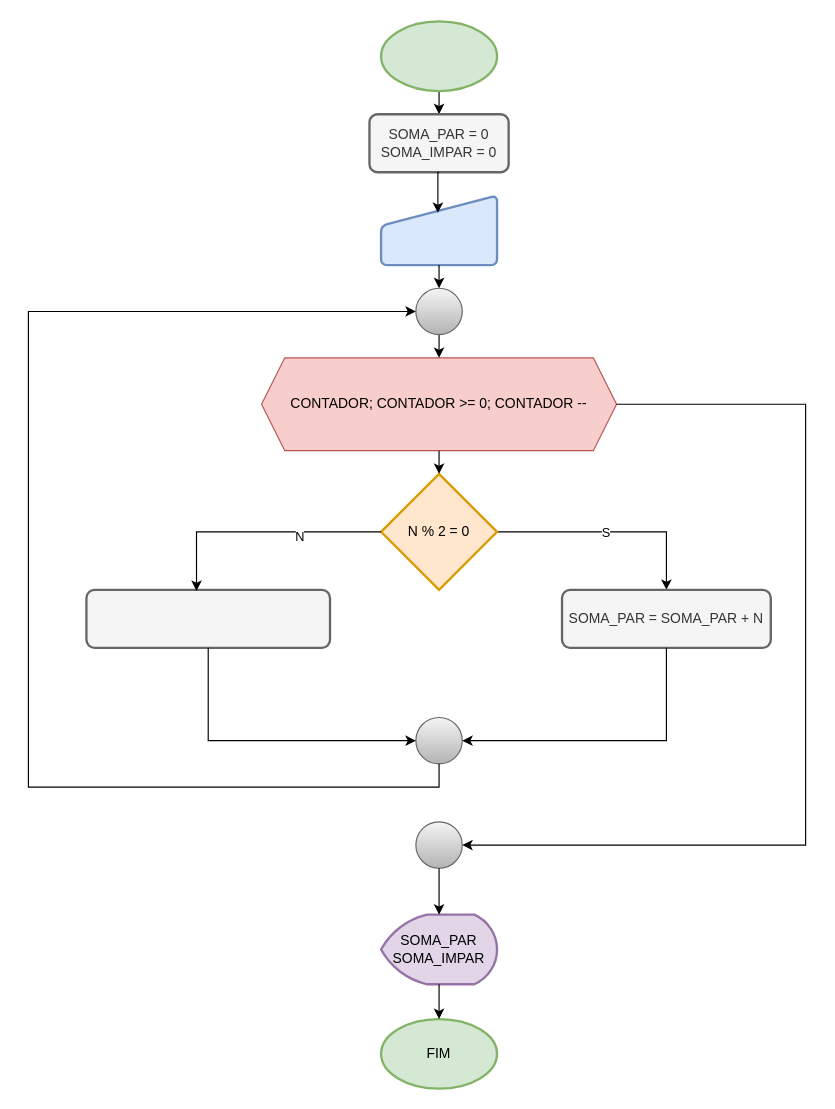
This 835x1109 diagram has some shape labels left out. Each missing label, with the centre of its shape:
CONTADOR: (438,230)
INICIO: (438,56)
SOMA_IMPAR = SOMA_IMPAR + N: (208,618)
